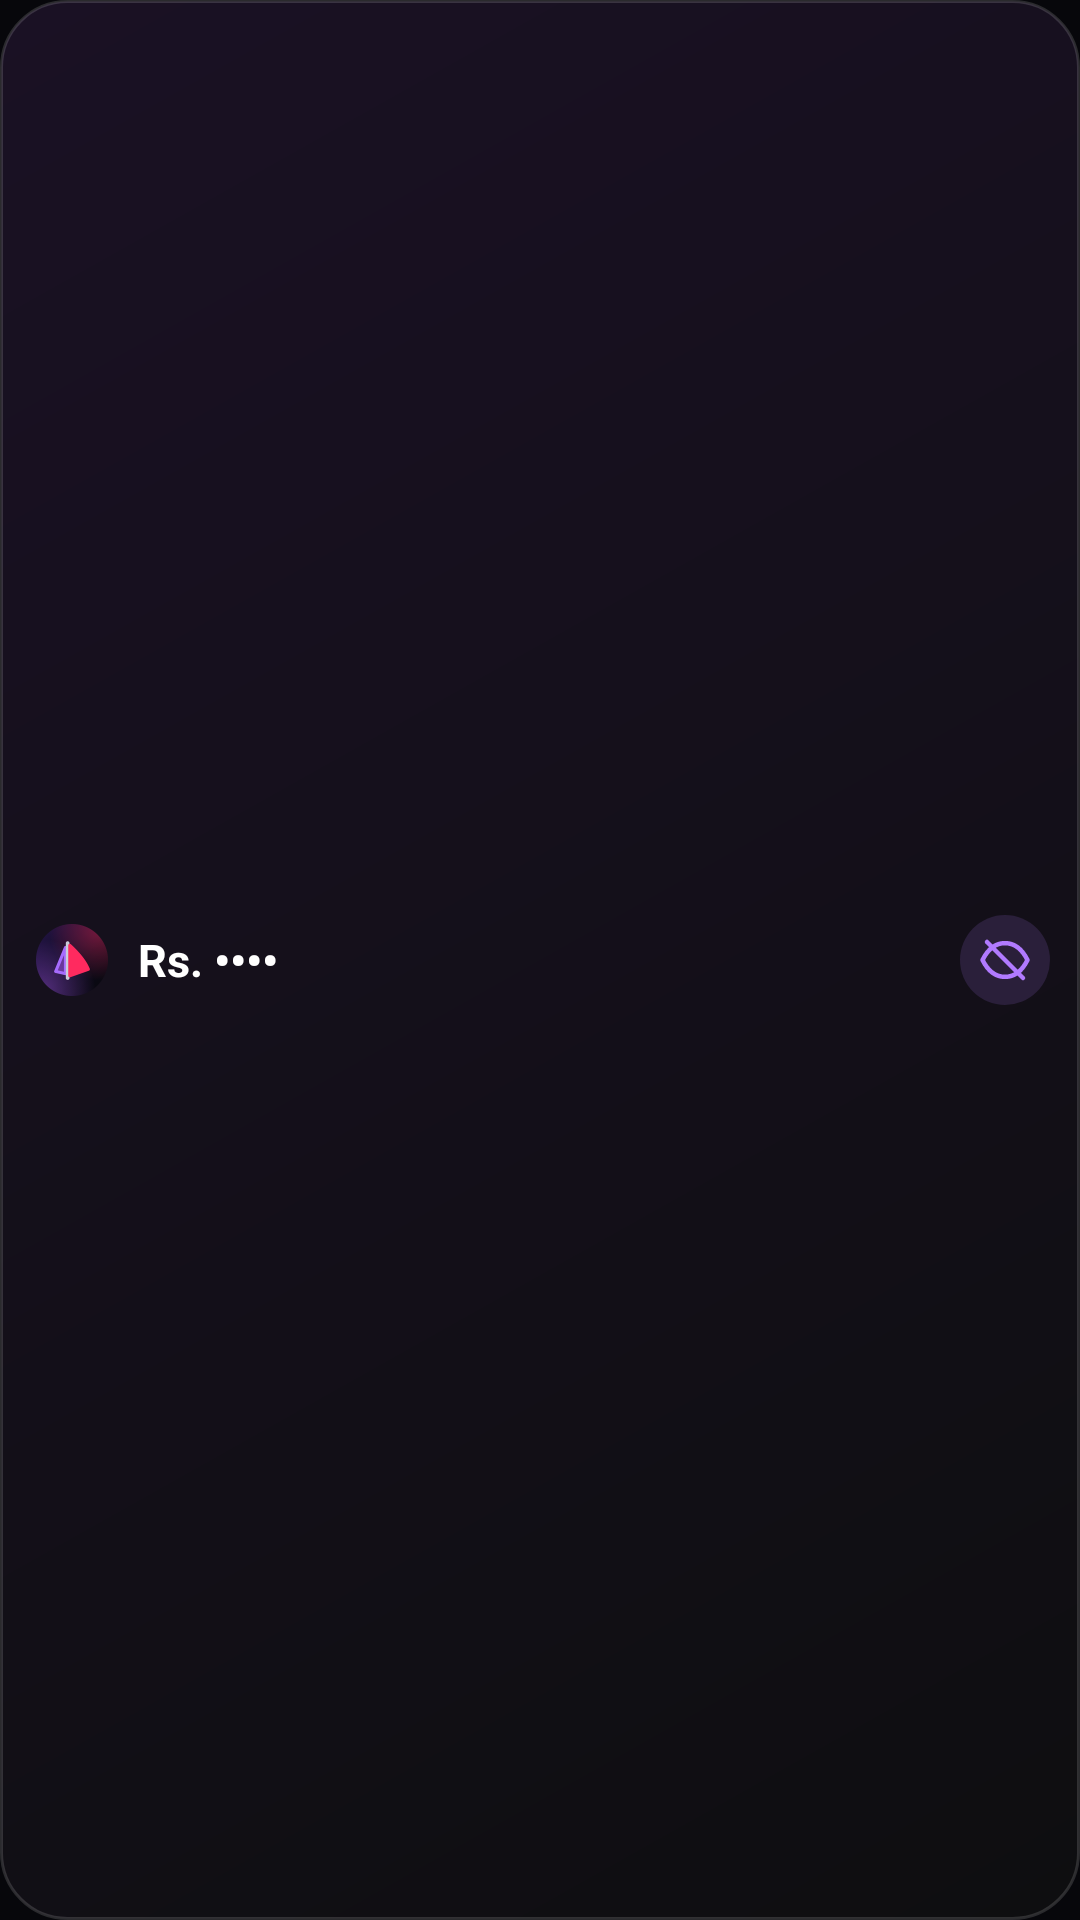

Point at icon controls on the screen. Image size 1080*1920, points as (x=x, y=y).
Show amounts: (x=1005, y=960)
